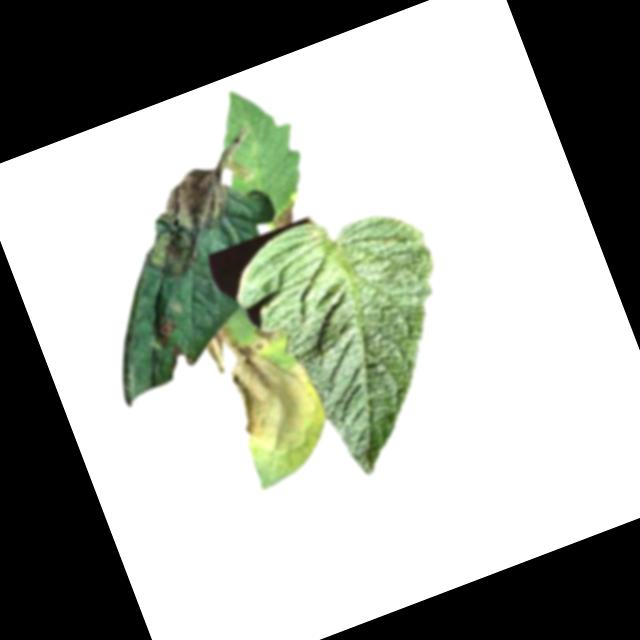Late_blight: (198, 305, 322, 466), (131, 159, 253, 285), (149, 314, 184, 351), (267, 203, 298, 231)
healthy: (218, 183, 496, 497)
